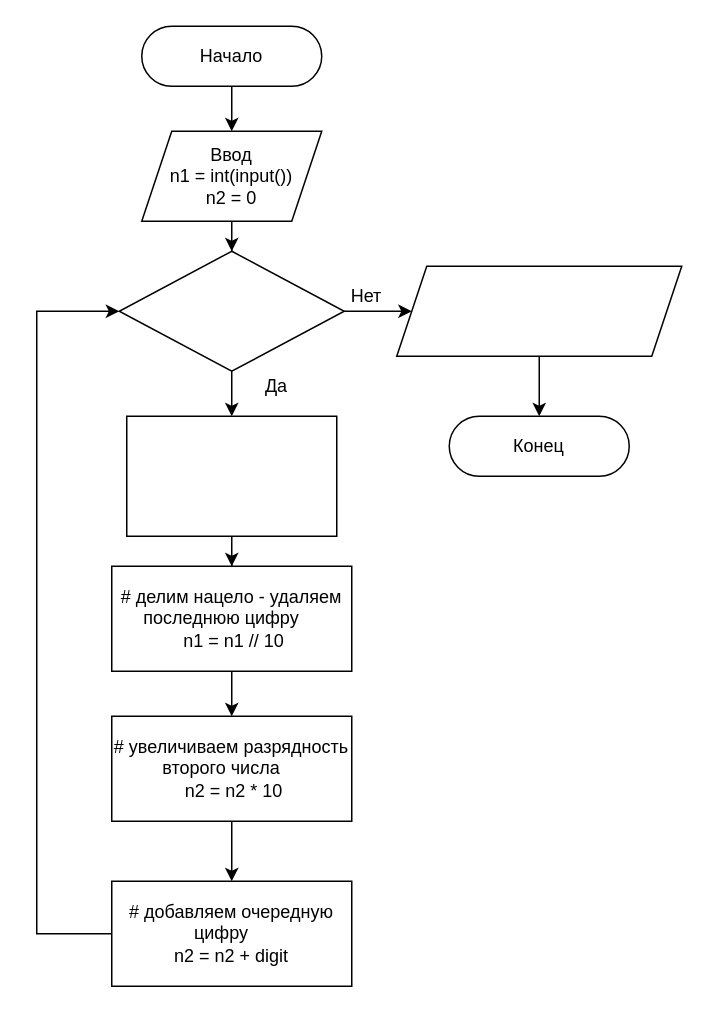
The diagram is 708 pixels wide and 1013 high, and some of its shapes have lost their labels. The box of each missing label's shape, as (x1, y1, x2, y2) in pixels:
# находим остаток - последнюю цифру digit = n1 % 10: (125, 415, 337, 536)
print('"Обратное" ему число:', n2): (395, 265, 682, 356)
while n1 > 0: (118, 250, 344, 371)
